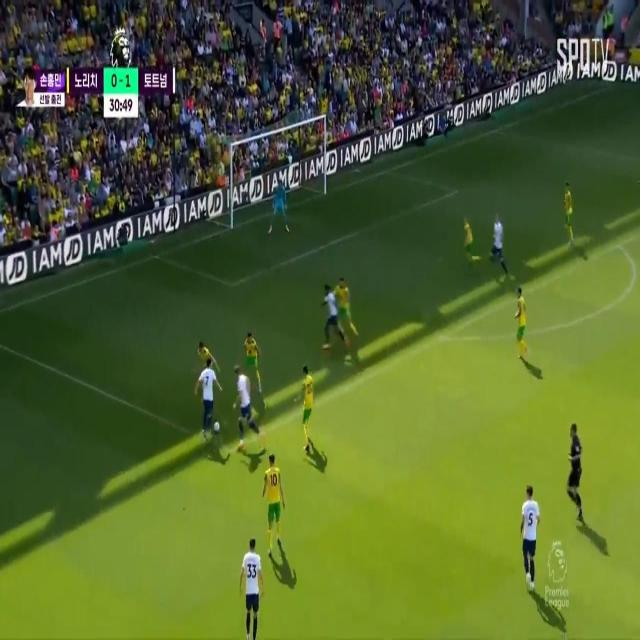ball: (241, 324, 266, 380), (210, 416, 226, 434)
player: (516, 484, 545, 588), (233, 361, 255, 447), (244, 537, 260, 640), (298, 362, 314, 453), (514, 284, 534, 356), (267, 446, 279, 551), (560, 180, 577, 250), (489, 208, 506, 275), (202, 354, 214, 445), (322, 280, 337, 352), (336, 271, 352, 333), (461, 216, 477, 268), (196, 336, 214, 374)
referee: (566, 419, 582, 521)
